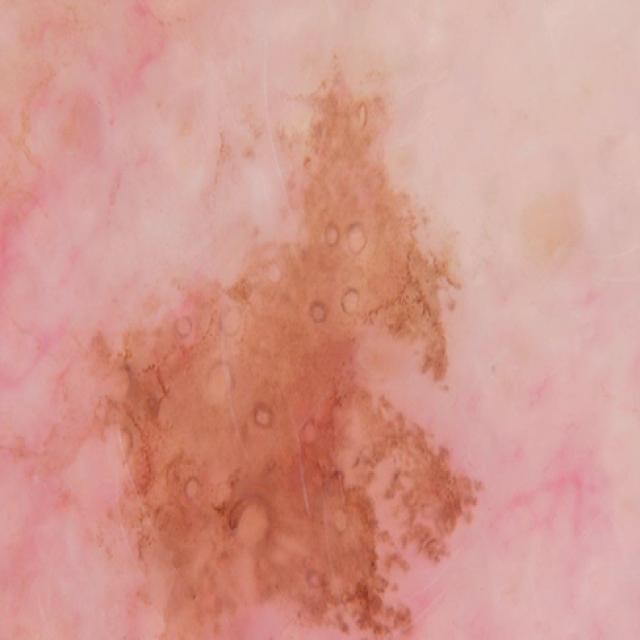Keratosis: (62, 43, 510, 640)
